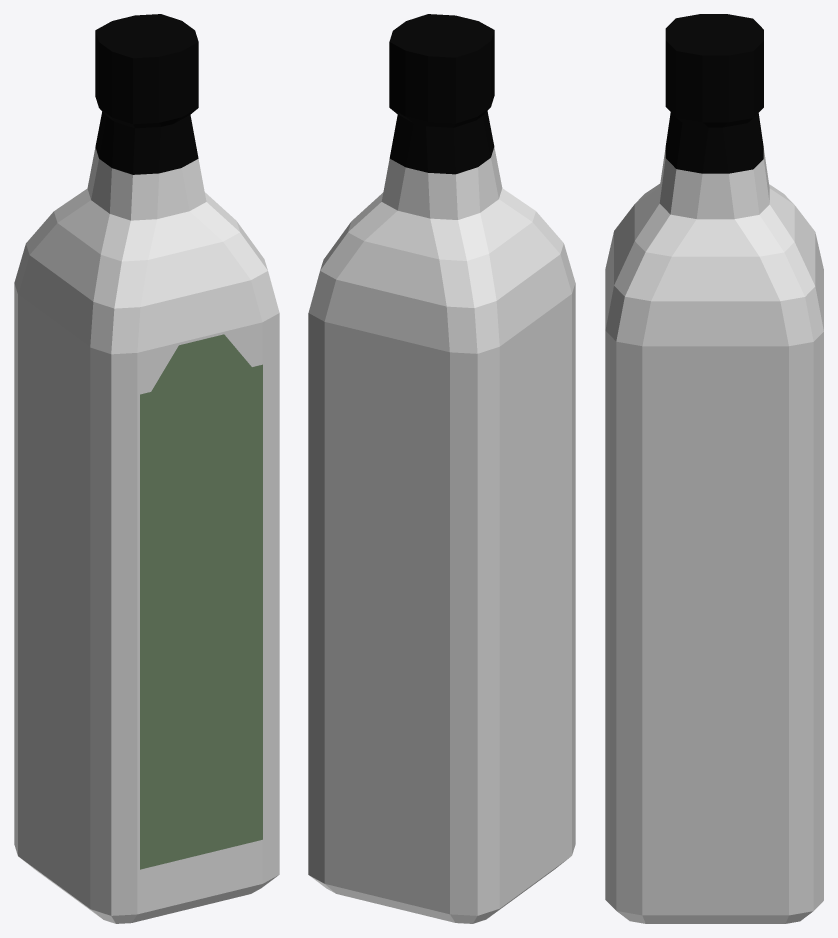
Rendered from Ma_Olive_Oil.fbx.
3 renders of one model, left to right at view 1: azimuth 30°, elevation 25°; view 2: azimuth 150°, elevation 25°; view 3: azimuth 270°, elevation 25°, orthographic.
Visible parts, largest first — view 1: Ma_Olive_Oil; view 2: Ma_Olive_Oil; view 3: Ma_Olive_Oil.
Part boxes in pixels (x1=…): Ma_Olive_Oil: x1=14, y1=14, x2=279, y2=923; Ma_Olive_Oil: x1=308, y1=14, x2=575, y2=923; Ma_Olive_Oil: x1=605, y1=14, x2=823, y2=923.
Bounding box in the file's own units: 52.24 × 52.58 × 224.
